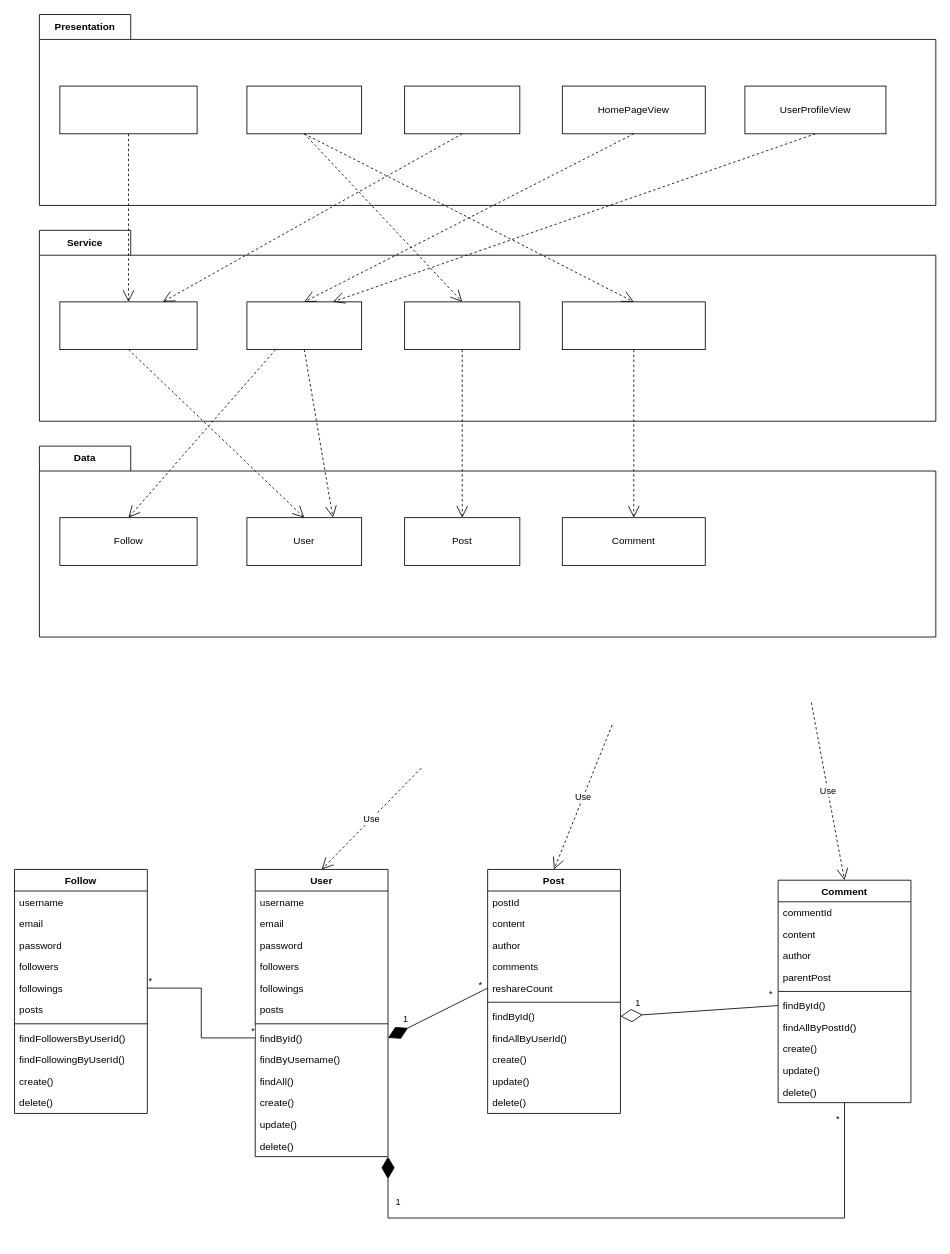
Image size: 950x1254. Some labels were removed from this diagram. Each missing label, with the box of its shape:
AuthService: (59, 301, 197, 350)
CommentService: (561, 301, 705, 350)
PostService: (404, 301, 520, 350)
PostView: (246, 85, 362, 134)
UserService: (246, 301, 362, 350)
UserSignInView: (404, 85, 520, 134)
UserSignUpView: (59, 85, 197, 134)
